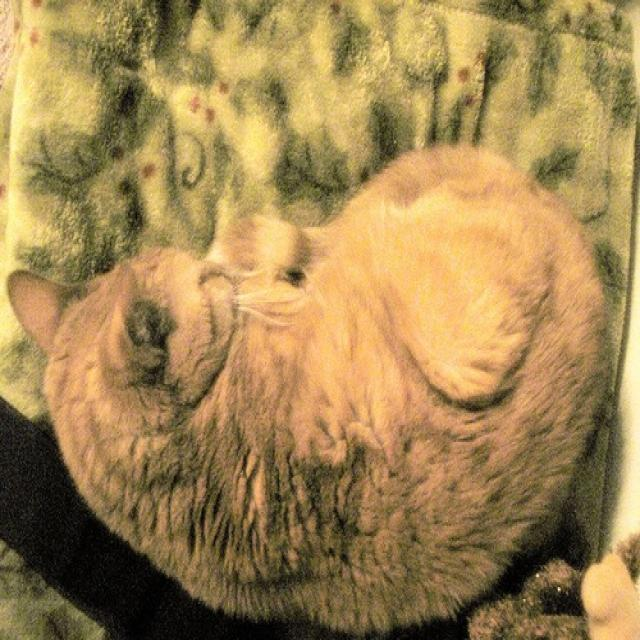cat: (9, 142, 627, 635)
